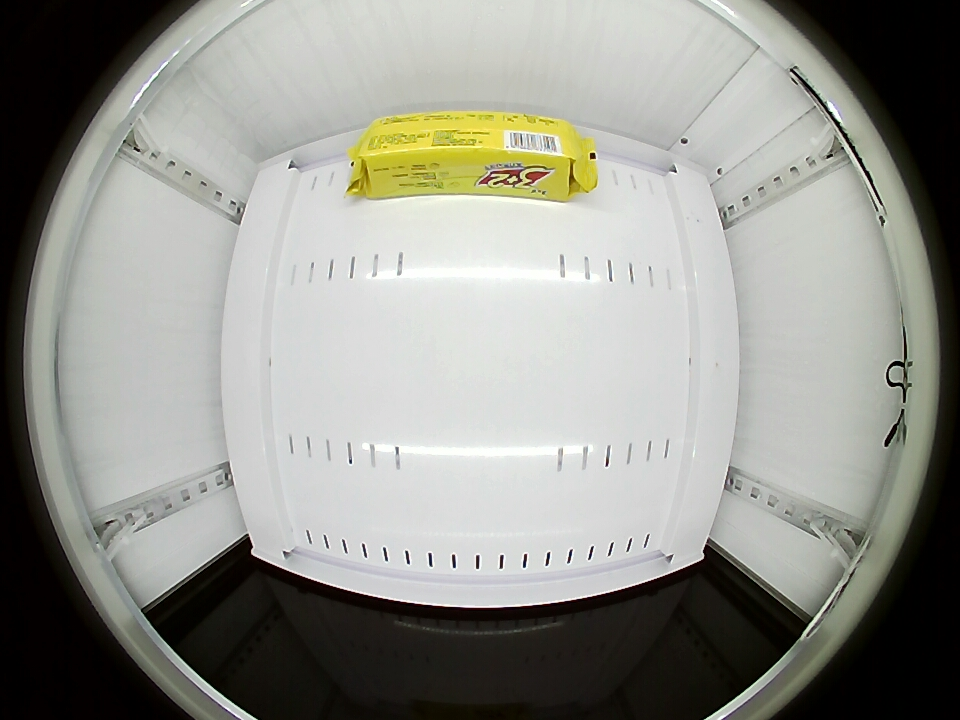3+2-2: (356, 111, 586, 200)
